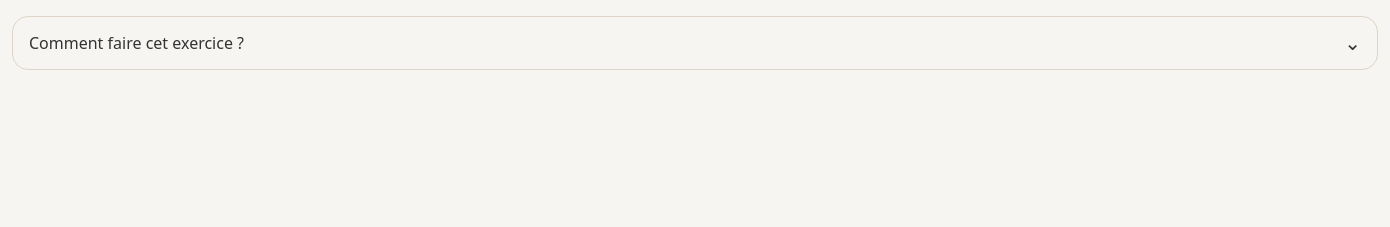
Scenario: HowToAccordion › omits optional sections the exercise doesn't have data for
Click the button "Comment faire cet exercice ? ⌄". click: (137, 43)
box: [13, 17, 1377, 69]
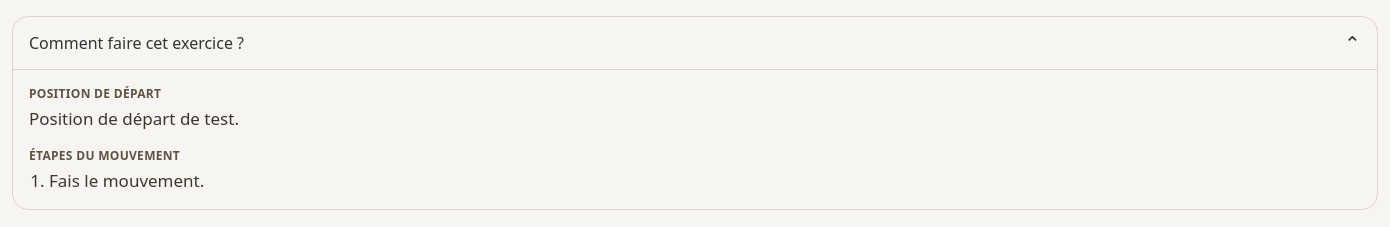
Now the heading "Position de départ" is shown, box [29, 85, 161, 102]
